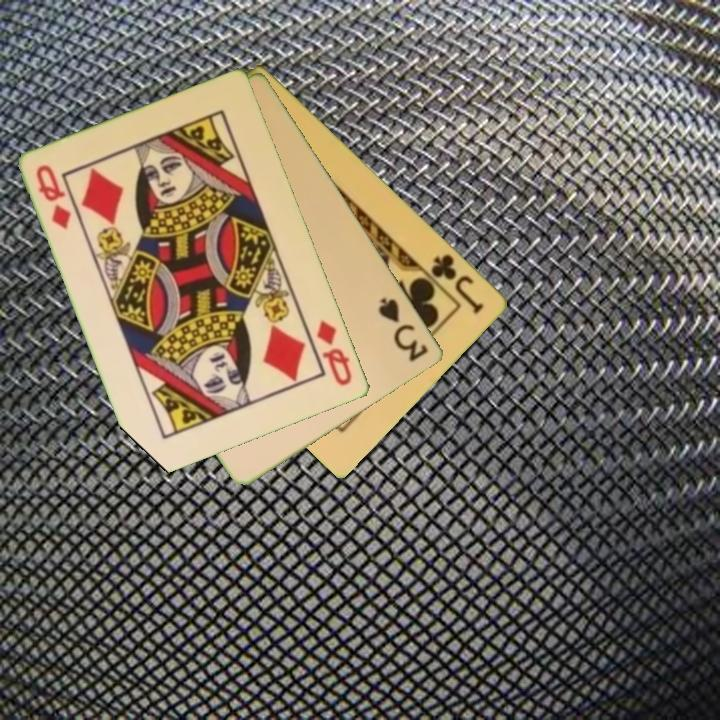3s: (375, 294, 432, 366)
Jc: (428, 250, 488, 317)
Qd: (313, 316, 356, 389), (32, 161, 75, 233)
